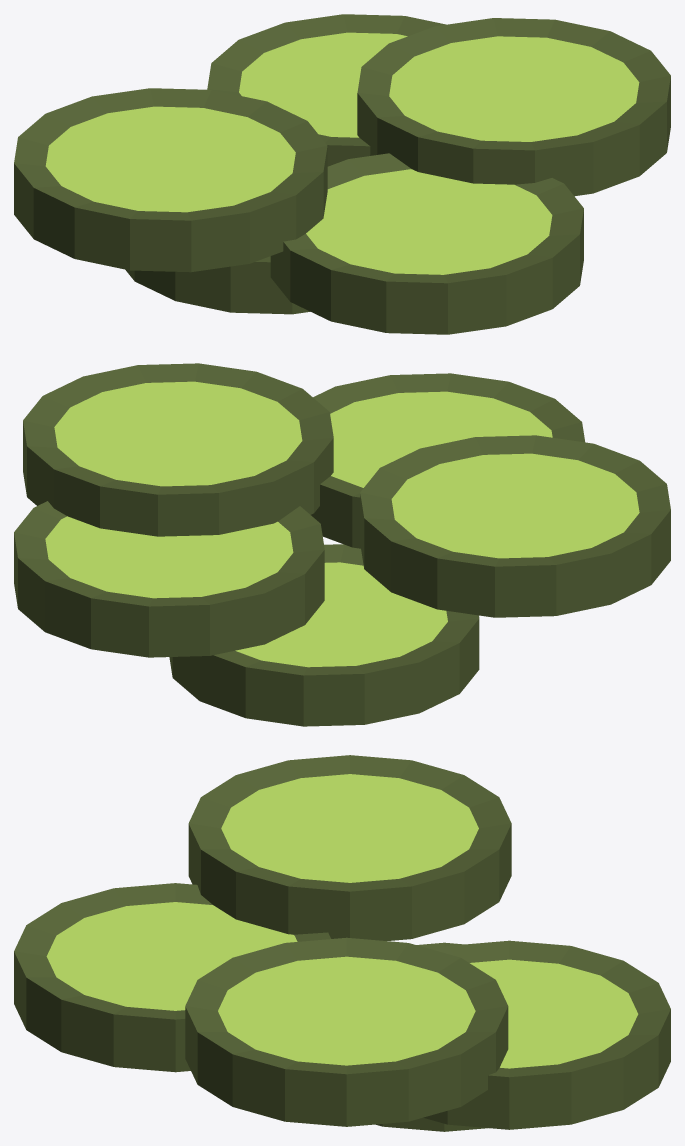
The model's file is 腌黄瓜.fbx.
The picture shows the model from 3 angles, top to bottom: view 1: azimuth 30°, elevation 25°; view 2: azimuth 150°, elevation 25°; view 3: azimuth 270°, elevation 25°; orthographic projection. The views are drawn at different scales.
Parts seen in each view (by area): view 1: 柱体.004, 柱体.001, 柱体.002, 柱体, 柱体.003; view 2: 柱体.004, 柱体.001, 柱体, 柱体.003, 柱体.002; view 3: 柱体.001, 柱体.004, 柱体.002, 柱体, 柱体.003.
Part boxes in pixels (bbox=[...]): 柱体.004: bbox=[14, 88, 327, 272]; 柱体.001: bbox=[357, 18, 670, 196]; 柱体.002: bbox=[270, 153, 583, 334]; 柱体: bbox=[207, 14, 445, 166]; 柱体.003: bbox=[125, 256, 309, 314]; 柱体.004: bbox=[360, 435, 670, 617]; 柱体.001: bbox=[23, 363, 333, 536]; 柱体: bbox=[14, 501, 324, 657]; 柱体.003: bbox=[169, 544, 479, 726]; 柱体.002: bbox=[311, 373, 584, 548]; 柱体.001: bbox=[185, 937, 508, 1126]; 柱体.004: bbox=[188, 755, 511, 940]; 柱体.002: bbox=[14, 883, 330, 1072]; 柱体: bbox=[423, 940, 670, 1129]; 柱体.003: bbox=[376, 942, 488, 1131].
Bounding box in the file's own units: 256 × 64.8 × 231.
